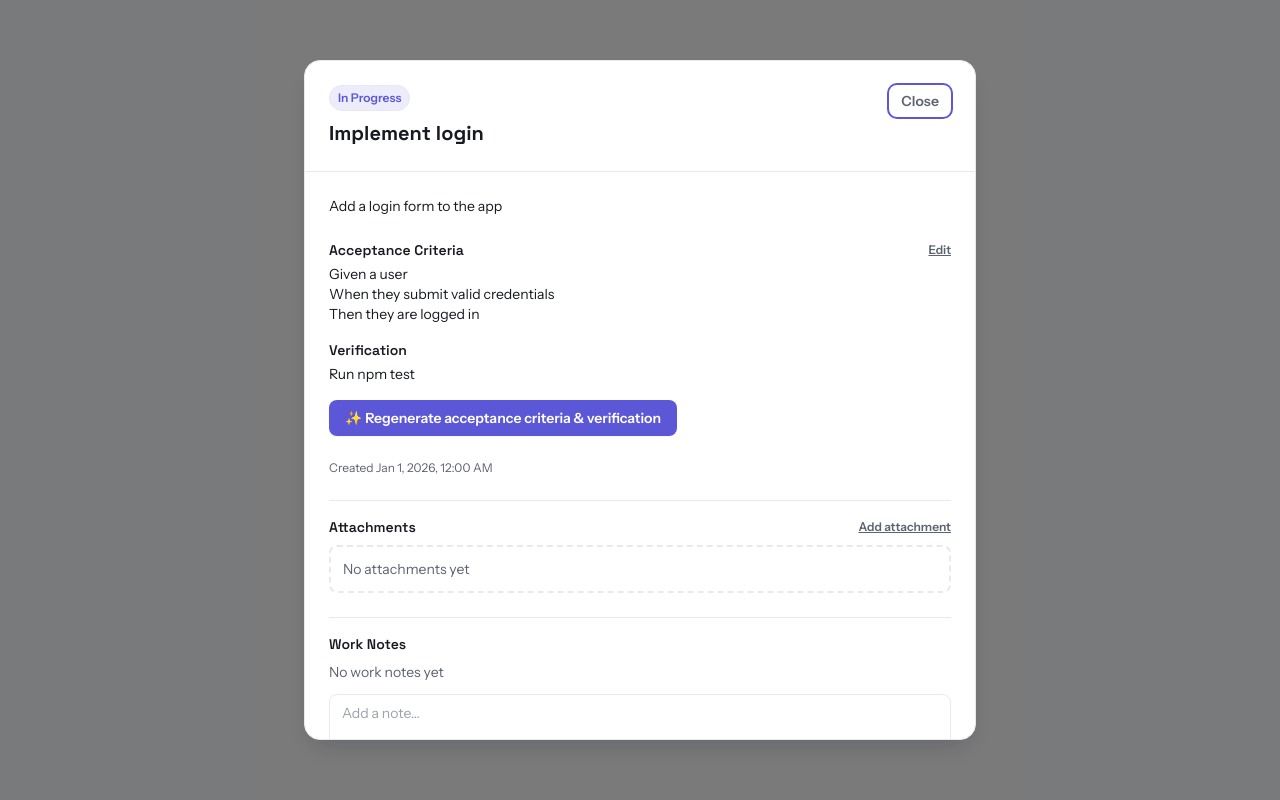
WorkUnitDetailModal › shows an inline error when saving AC/verification fails
Expected: the text "No work notes yet" is shown, [329, 663, 444, 681]
Click the button with test id "work-unit-detail-edit-button". click: (940, 250)
box: [928, 242, 951, 258]
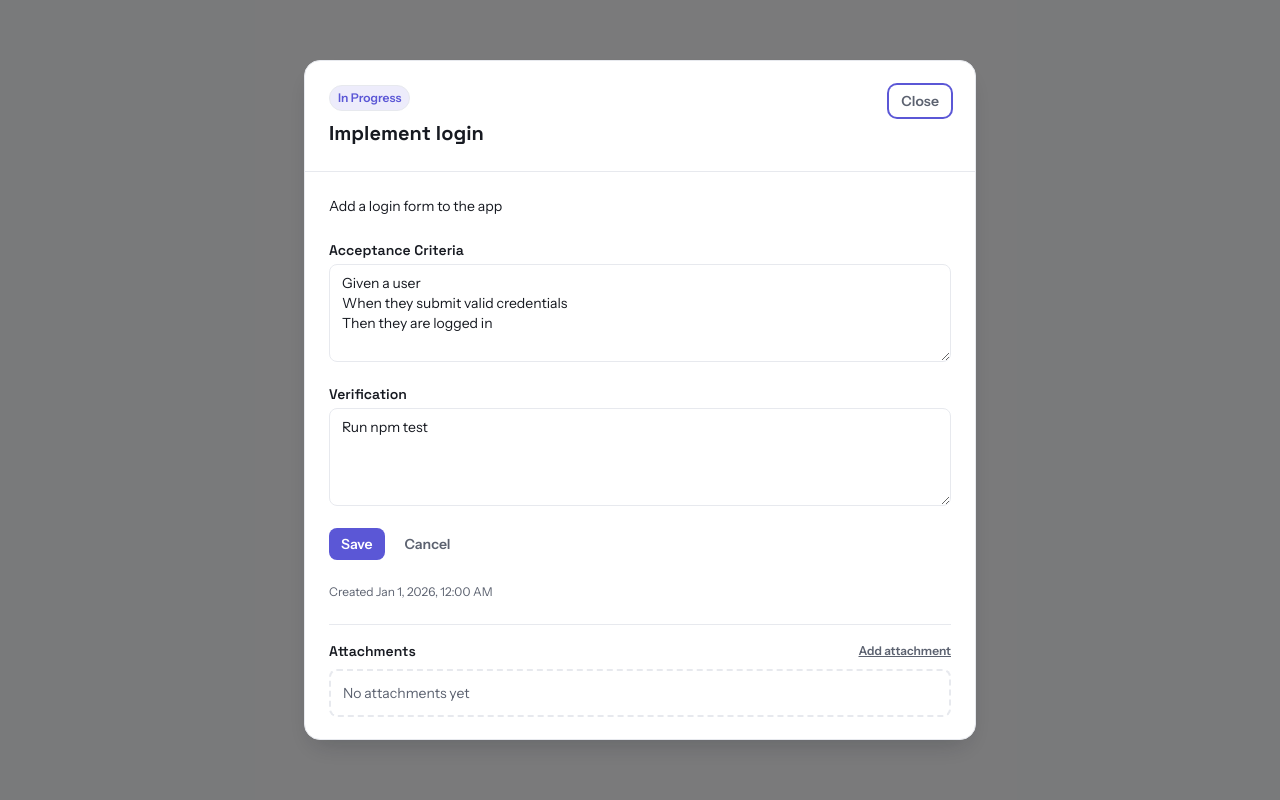
Click the button with test id "work-unit-detail-save-button". click: (357, 544)
box: [329, 528, 385, 560]
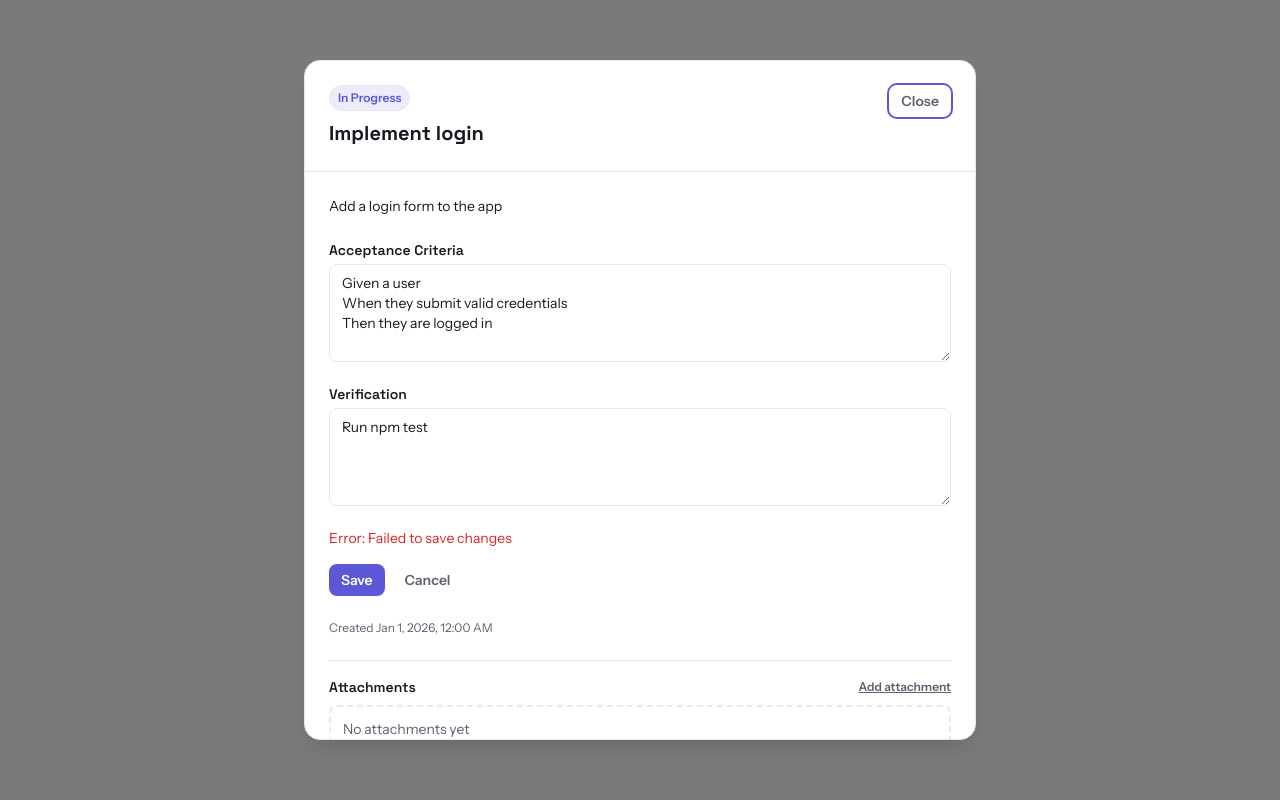
Now the message shows "Failed to save changes", box [368, 529, 512, 547]
